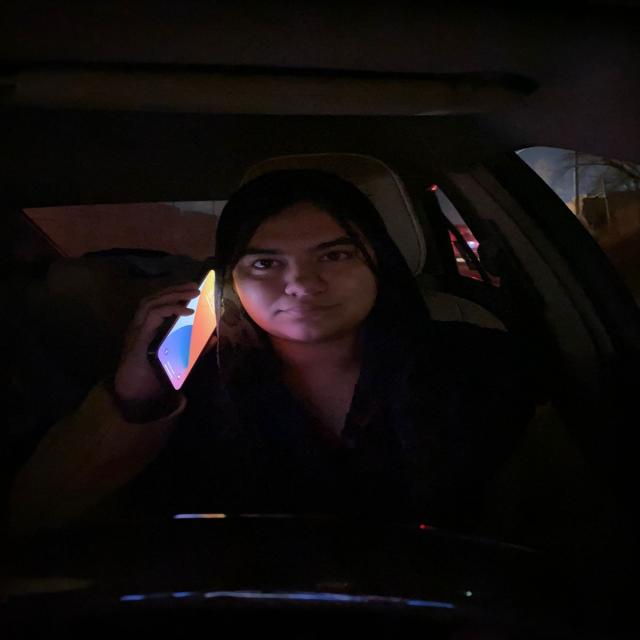mobile: (152, 268, 217, 395)
person: (222, 186, 395, 353)
